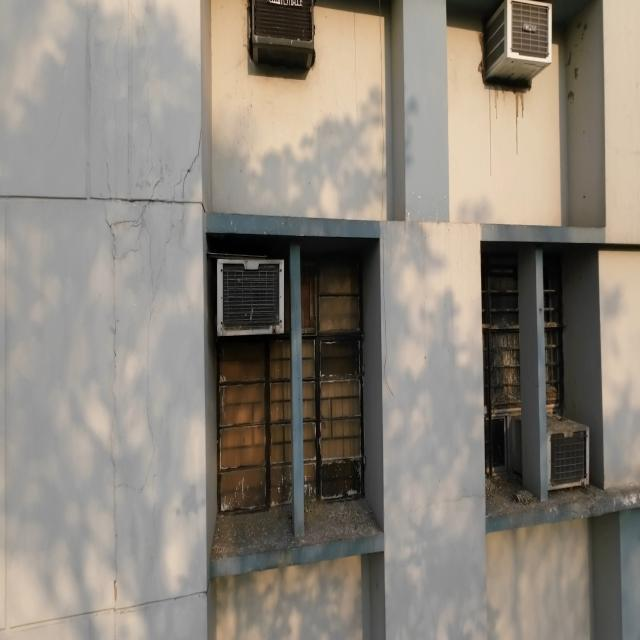Crack: (105, 197, 200, 639), (132, 113, 202, 202)
